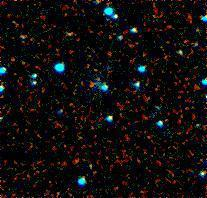star: (56, 20, 86, 50)
